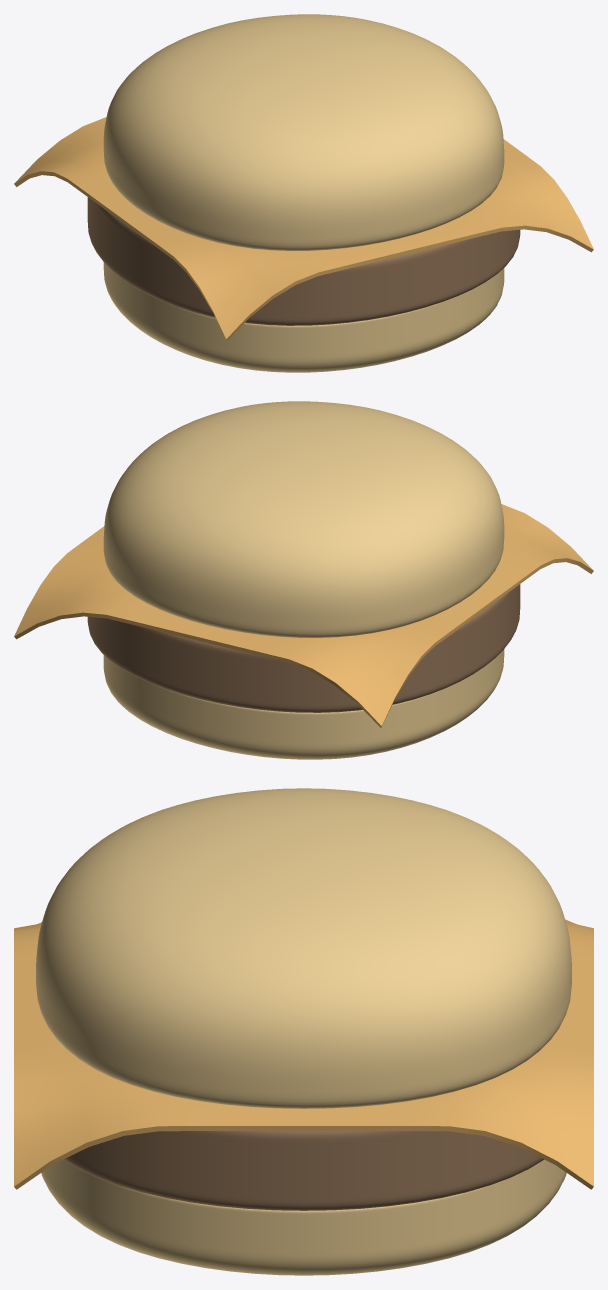
File: hamburger.glb
The picture shows the model from 3 angles, top to bottom: view 1: azimuth 30°, elevation 25°; view 2: azimuth 150°, elevation 25°; view 3: azimuth 270°, elevation 25°; orthographic projection. The views are drawn at different scales.
Parts seen in each view (by area): view 1: Top Bun, Cheese, Burger, Bottom Bun; view 2: Top Bun, Cheese, Burger, Bottom Bun; view 3: Top Bun, Cheese, Bottom Bun, Burger.
Part boxes in pixels (<box>): Top Bun: <box>103,14,504,250</box>; Cheese: <box>14,117,593,340</box>; Burger: <box>87,197,520,325</box>; Bottom Bun: <box>103,262,504,372</box>; Top Bun: <box>103,401,504,637</box>; Cheese: <box>14,504,593,727</box>; Burger: <box>87,584,520,712</box>; Bottom Bun: <box>103,649,504,759</box>; Top Bun: <box>36,788,571,1108</box>; Cheese: <box>14,919,593,1189</box>; Bottom Bun: <box>41,1159,566,1275</box>; Burger: <box>64,1131,543,1210</box>.
Size of the model in its own units: 9.86 by 6.52 by 9.86.
